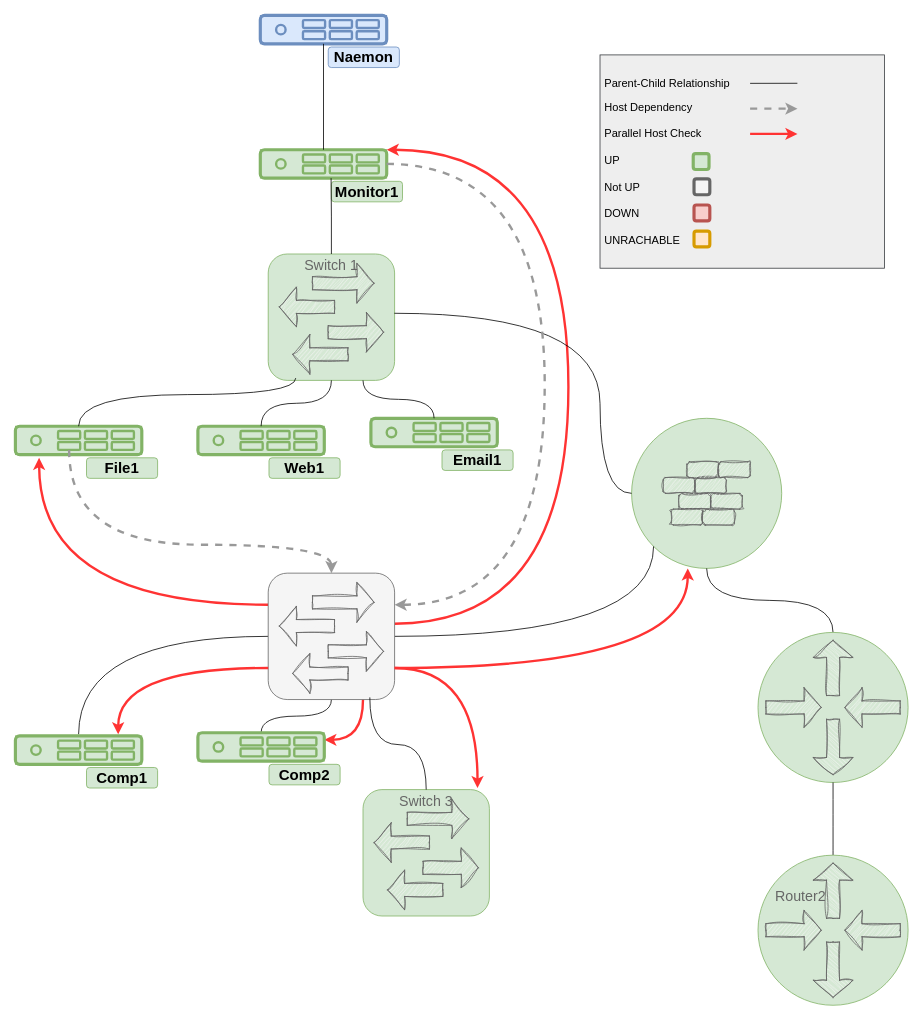
Image size: 922x1019. Some labels were removed from this diagram. Here are the shapes that lost their labels. From the top down, the box of each, then its label:
(631, 418, 782, 568): Firewall1
(267, 572, 395, 700): Switch 2
(757, 632, 908, 782): Router1
